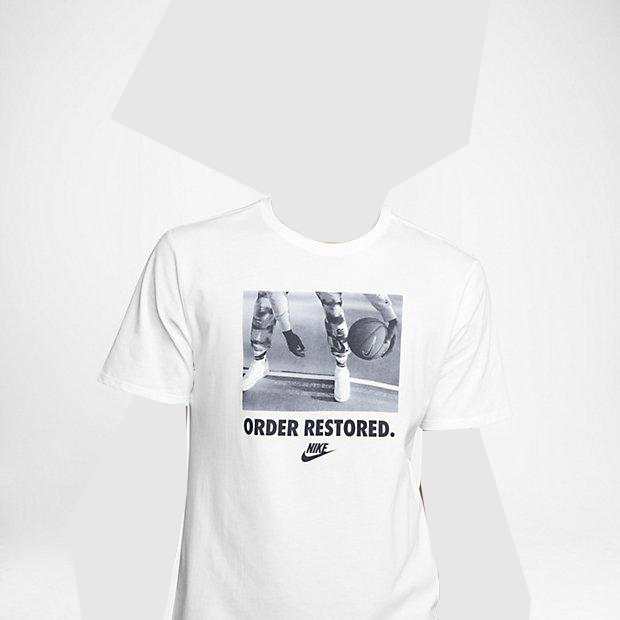teeshirt: (93, 195, 510, 620)
